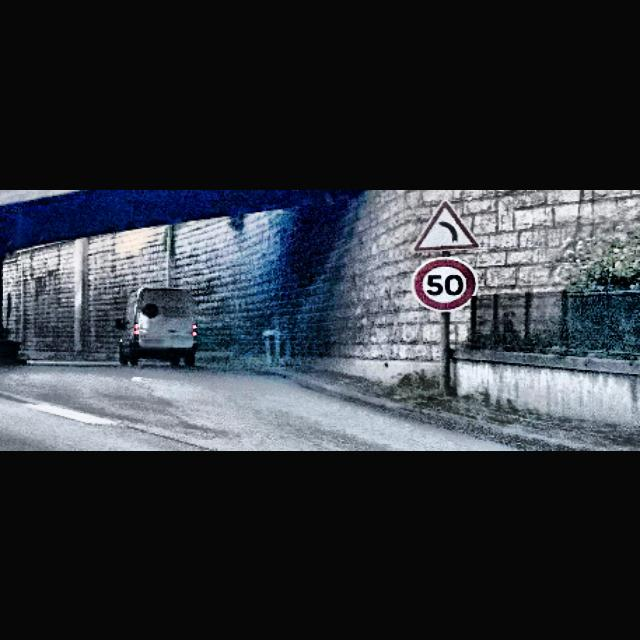speed_50: (412, 258, 478, 312)
